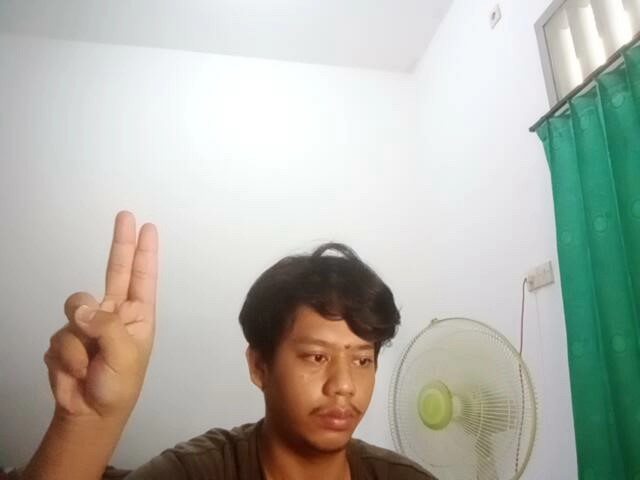U: (38, 200, 162, 423)
